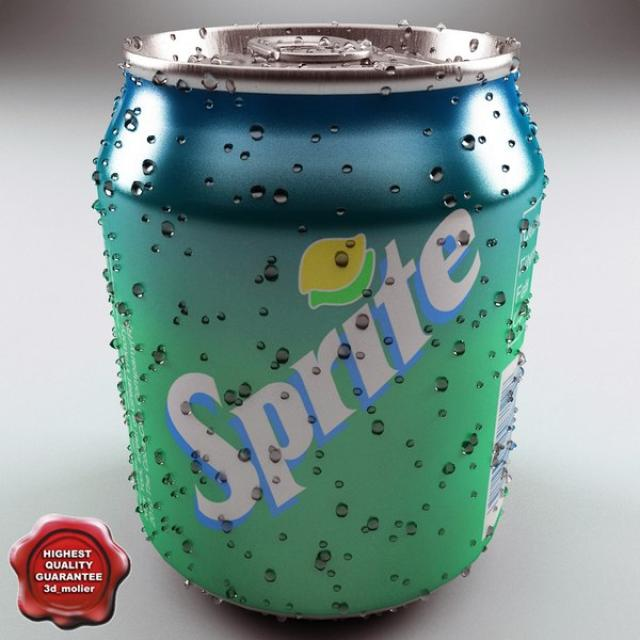sprite: (98, 17, 544, 634)
